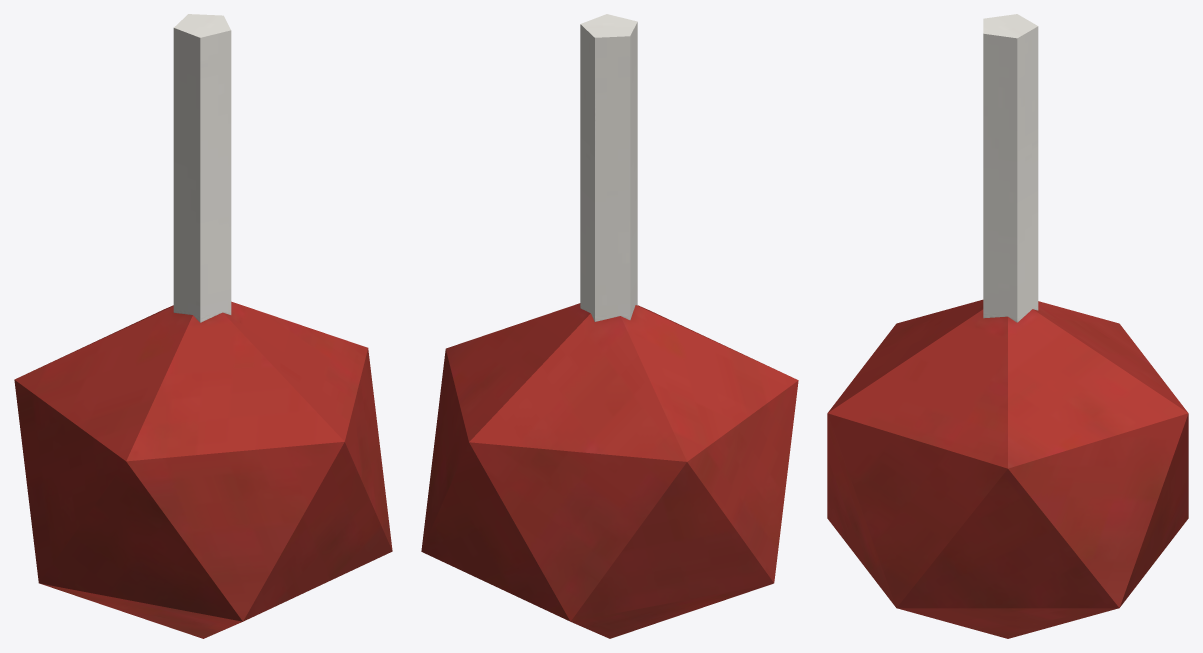
Rendered from boj_tex.glb.
3 renders of one model, left to right at view 1: azimuth 30°, elevation 25°; view 2: azimuth 150°, elevation 25°; view 3: azimuth 270°, elevation 25°, orthographic.
Parts seen in each view (by area): view 1: boj; view 2: boj; view 3: boj.
Boxes of the visible parts, bbox=[...] form: boj: bbox=[14, 14, 392, 638]; boj: bbox=[421, 14, 798, 638]; boj: bbox=[827, 14, 1188, 638].
Size of the model in its own units: 0.6261 by 1.12 by 0.5954.
Materials: 2 (2 with a texture image).
